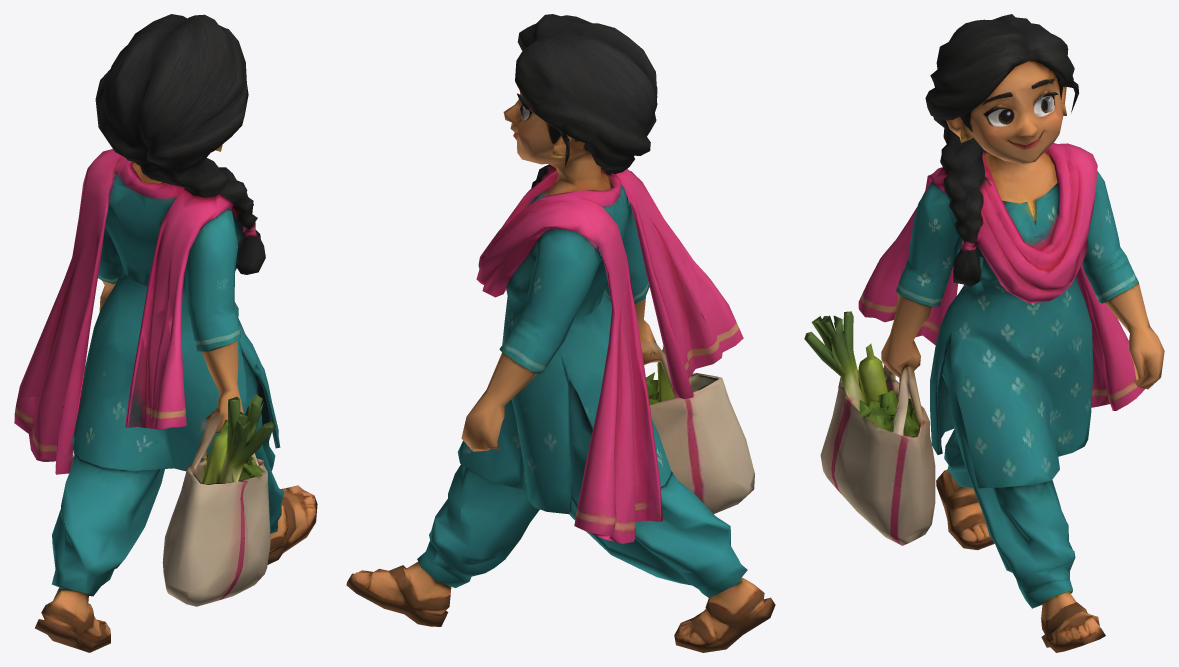
File: pedestrian-shopper.glb
The picture shows the model from 3 angles, left to right: view 1: azimuth 30°, elevation 25°; view 2: azimuth 150°, elevation 25°; view 3: azimuth 270°, elevation 25°; orthographic projection. The views are drawn at different scales.
Parts seen in each view (by area): view 1: tripo_node_40ae9da1-9ad1-4938-ba36-87624d0e5b18; view 2: tripo_node_40ae9da1-9ad1-4938-ba36-87624d0e5b18; view 3: tripo_node_40ae9da1-9ad1-4938-ba36-87624d0e5b18.
Part boxes in pixels (x1,y1,x2,y2): tripo_node_40ae9da1-9ad1-4938-ba36-87624d0e5b18: [14, 14, 317, 652]; tripo_node_40ae9da1-9ad1-4938-ba36-87624d0e5b18: [346, 14, 775, 652]; tripo_node_40ae9da1-9ad1-4938-ba36-87624d0e5b18: [804, 14, 1164, 652].
Size of the model in its own units: 0.6153 by 1 by 0.5689.
1 material, 1 textured.
